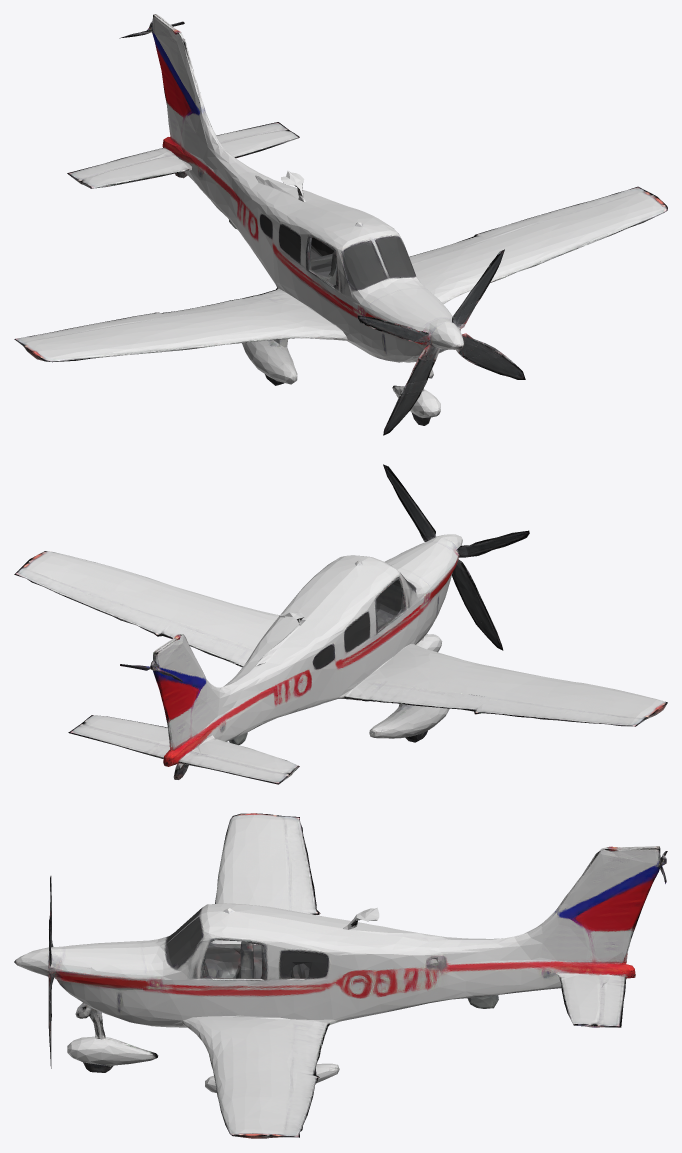
The picture shows the model from 3 angles, top to bottom: view 1: azimuth 30°, elevation 25°; view 2: azimuth 150°, elevation 25°; view 3: azimuth 270°, elevation 25°; orthographic projection. The views are drawn at different scales.
Visible parts, largest first — view 1: world; view 2: world; view 3: world.
Part boxes in pixels (box(x1,y1,x2,y2)): world: box(14, 14, 667, 435); world: box(14, 464, 667, 784); world: box(14, 813, 667, 1138).
Size of the model in its own units: 0.9999 by 0.3265 by 0.8562.
1 material, 1 textured.
